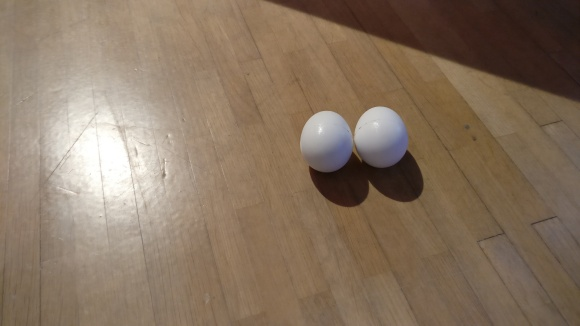egg: (353, 105, 409, 169), (300, 110, 353, 174)
